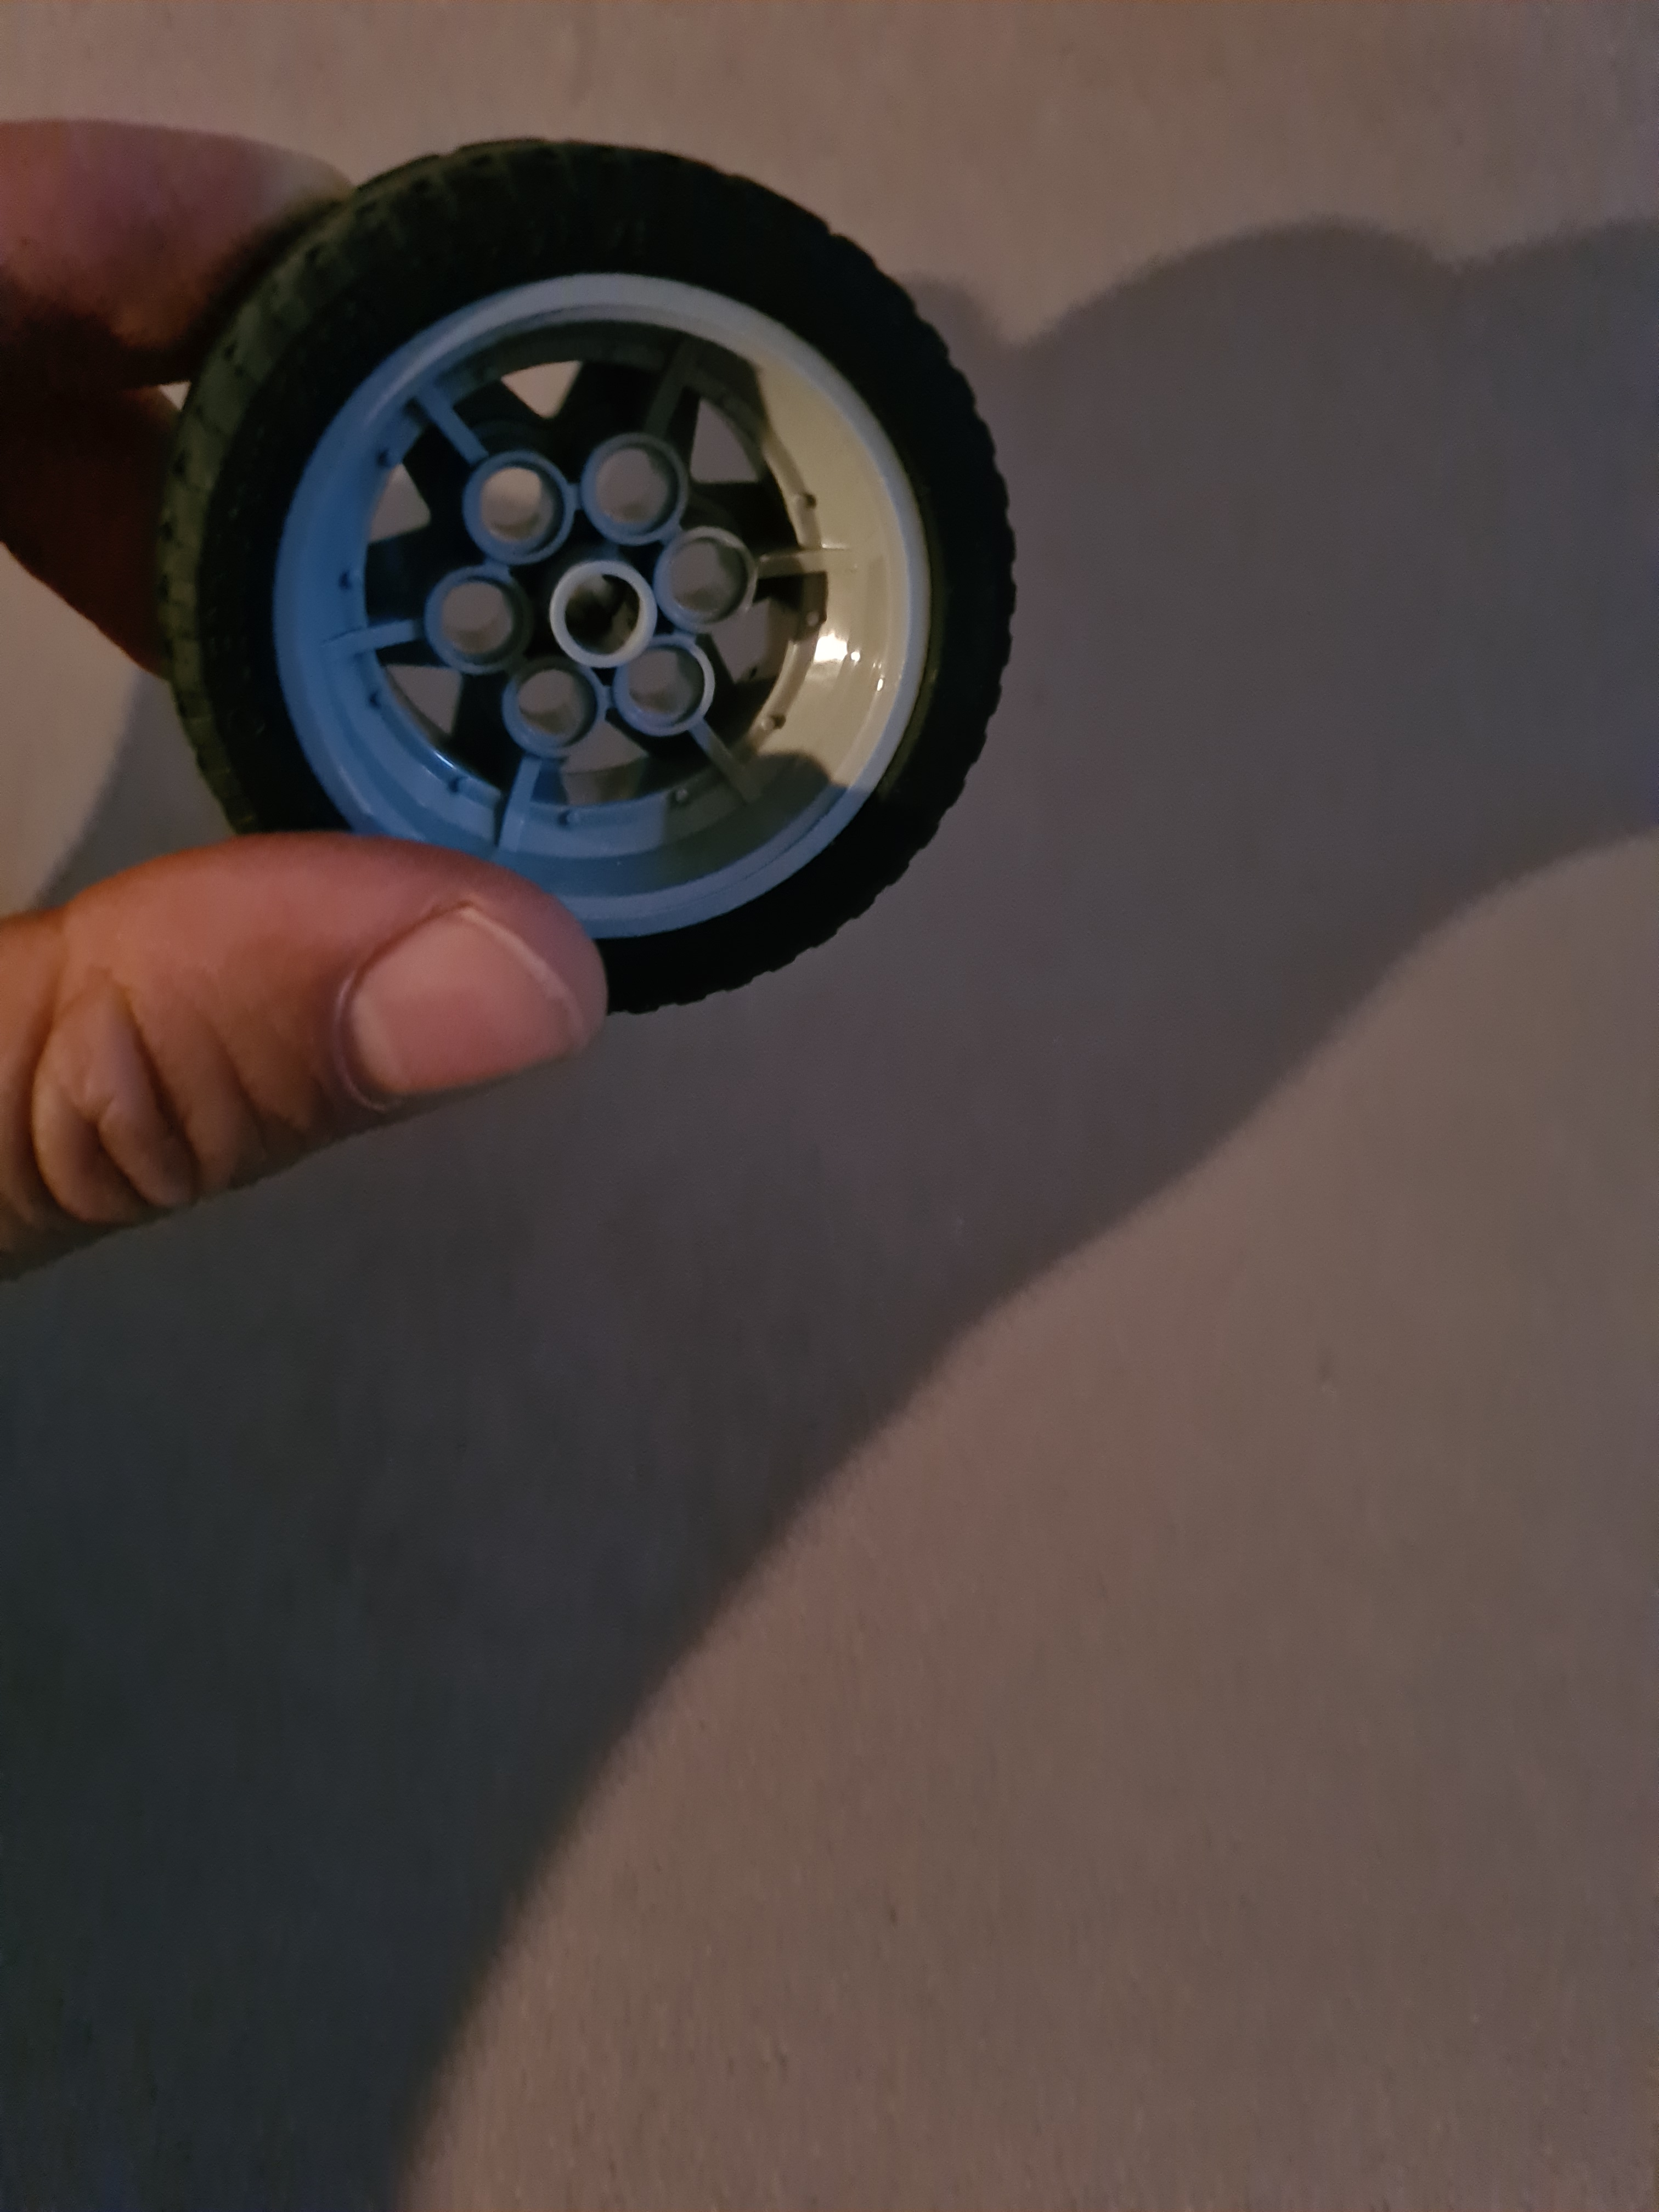Rad: (143, 117, 1035, 1042)
